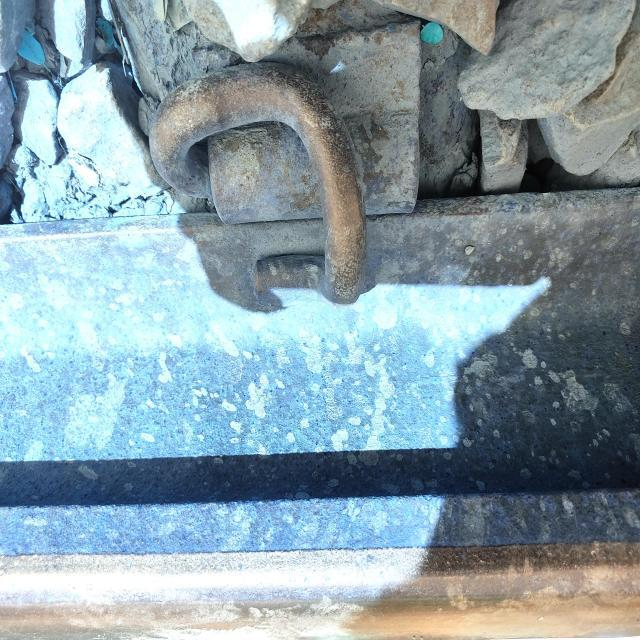Good Fasteners: (149, 20, 421, 310)
